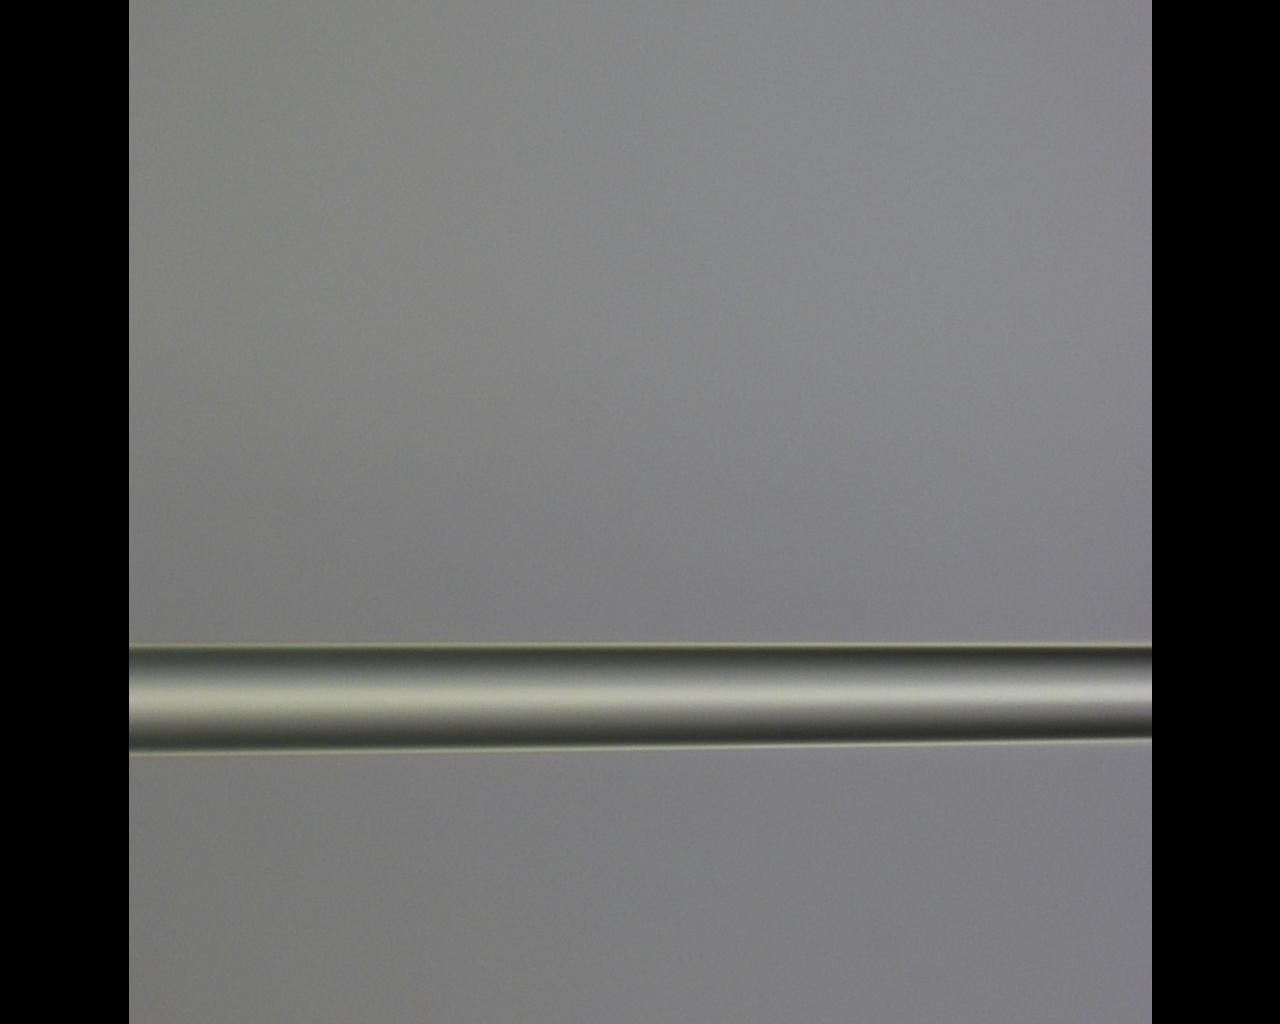fiber: (132, 0, 1137, 1024)
